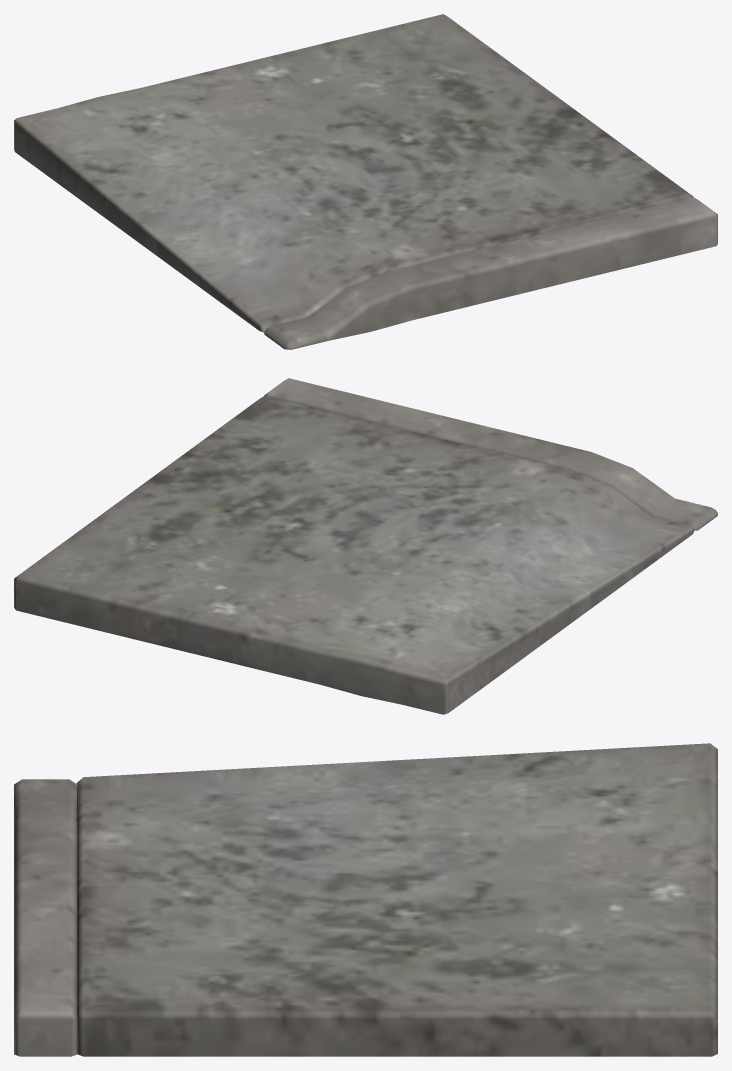
Rendered from SidewalkDrivewayRight.glb.
3 renders of one model, top to bottom at view 1: azimuth 30°, elevation 25°; view 2: azimuth 150°, elevation 25°; view 3: azimuth 270°, elevation 25°, orthographic. The views are drawn at different scales.
Visible parts, largest first — view 1: SidewalkDrivewayRight_SidewalkMat_0; view 2: SidewalkDrivewayRight_SidewalkMat_0; view 3: SidewalkDrivewayRight_SidewalkMat_0.
Part boxes in pixels (left/top/right/bottom): SidewalkDrivewayRight_SidewalkMat_0: left=14, top=14, right=717, bottom=349; SidewalkDrivewayRight_SidewalkMat_0: left=14, top=378, right=717, bottom=714; SidewalkDrivewayRight_SidewalkMat_0: left=14, top=743, right=717, bottom=1056.
Bounding box in the file's own units: 2.01 × 0.1614 × 2.2.
Materials: 1 (1 with a texture image).
